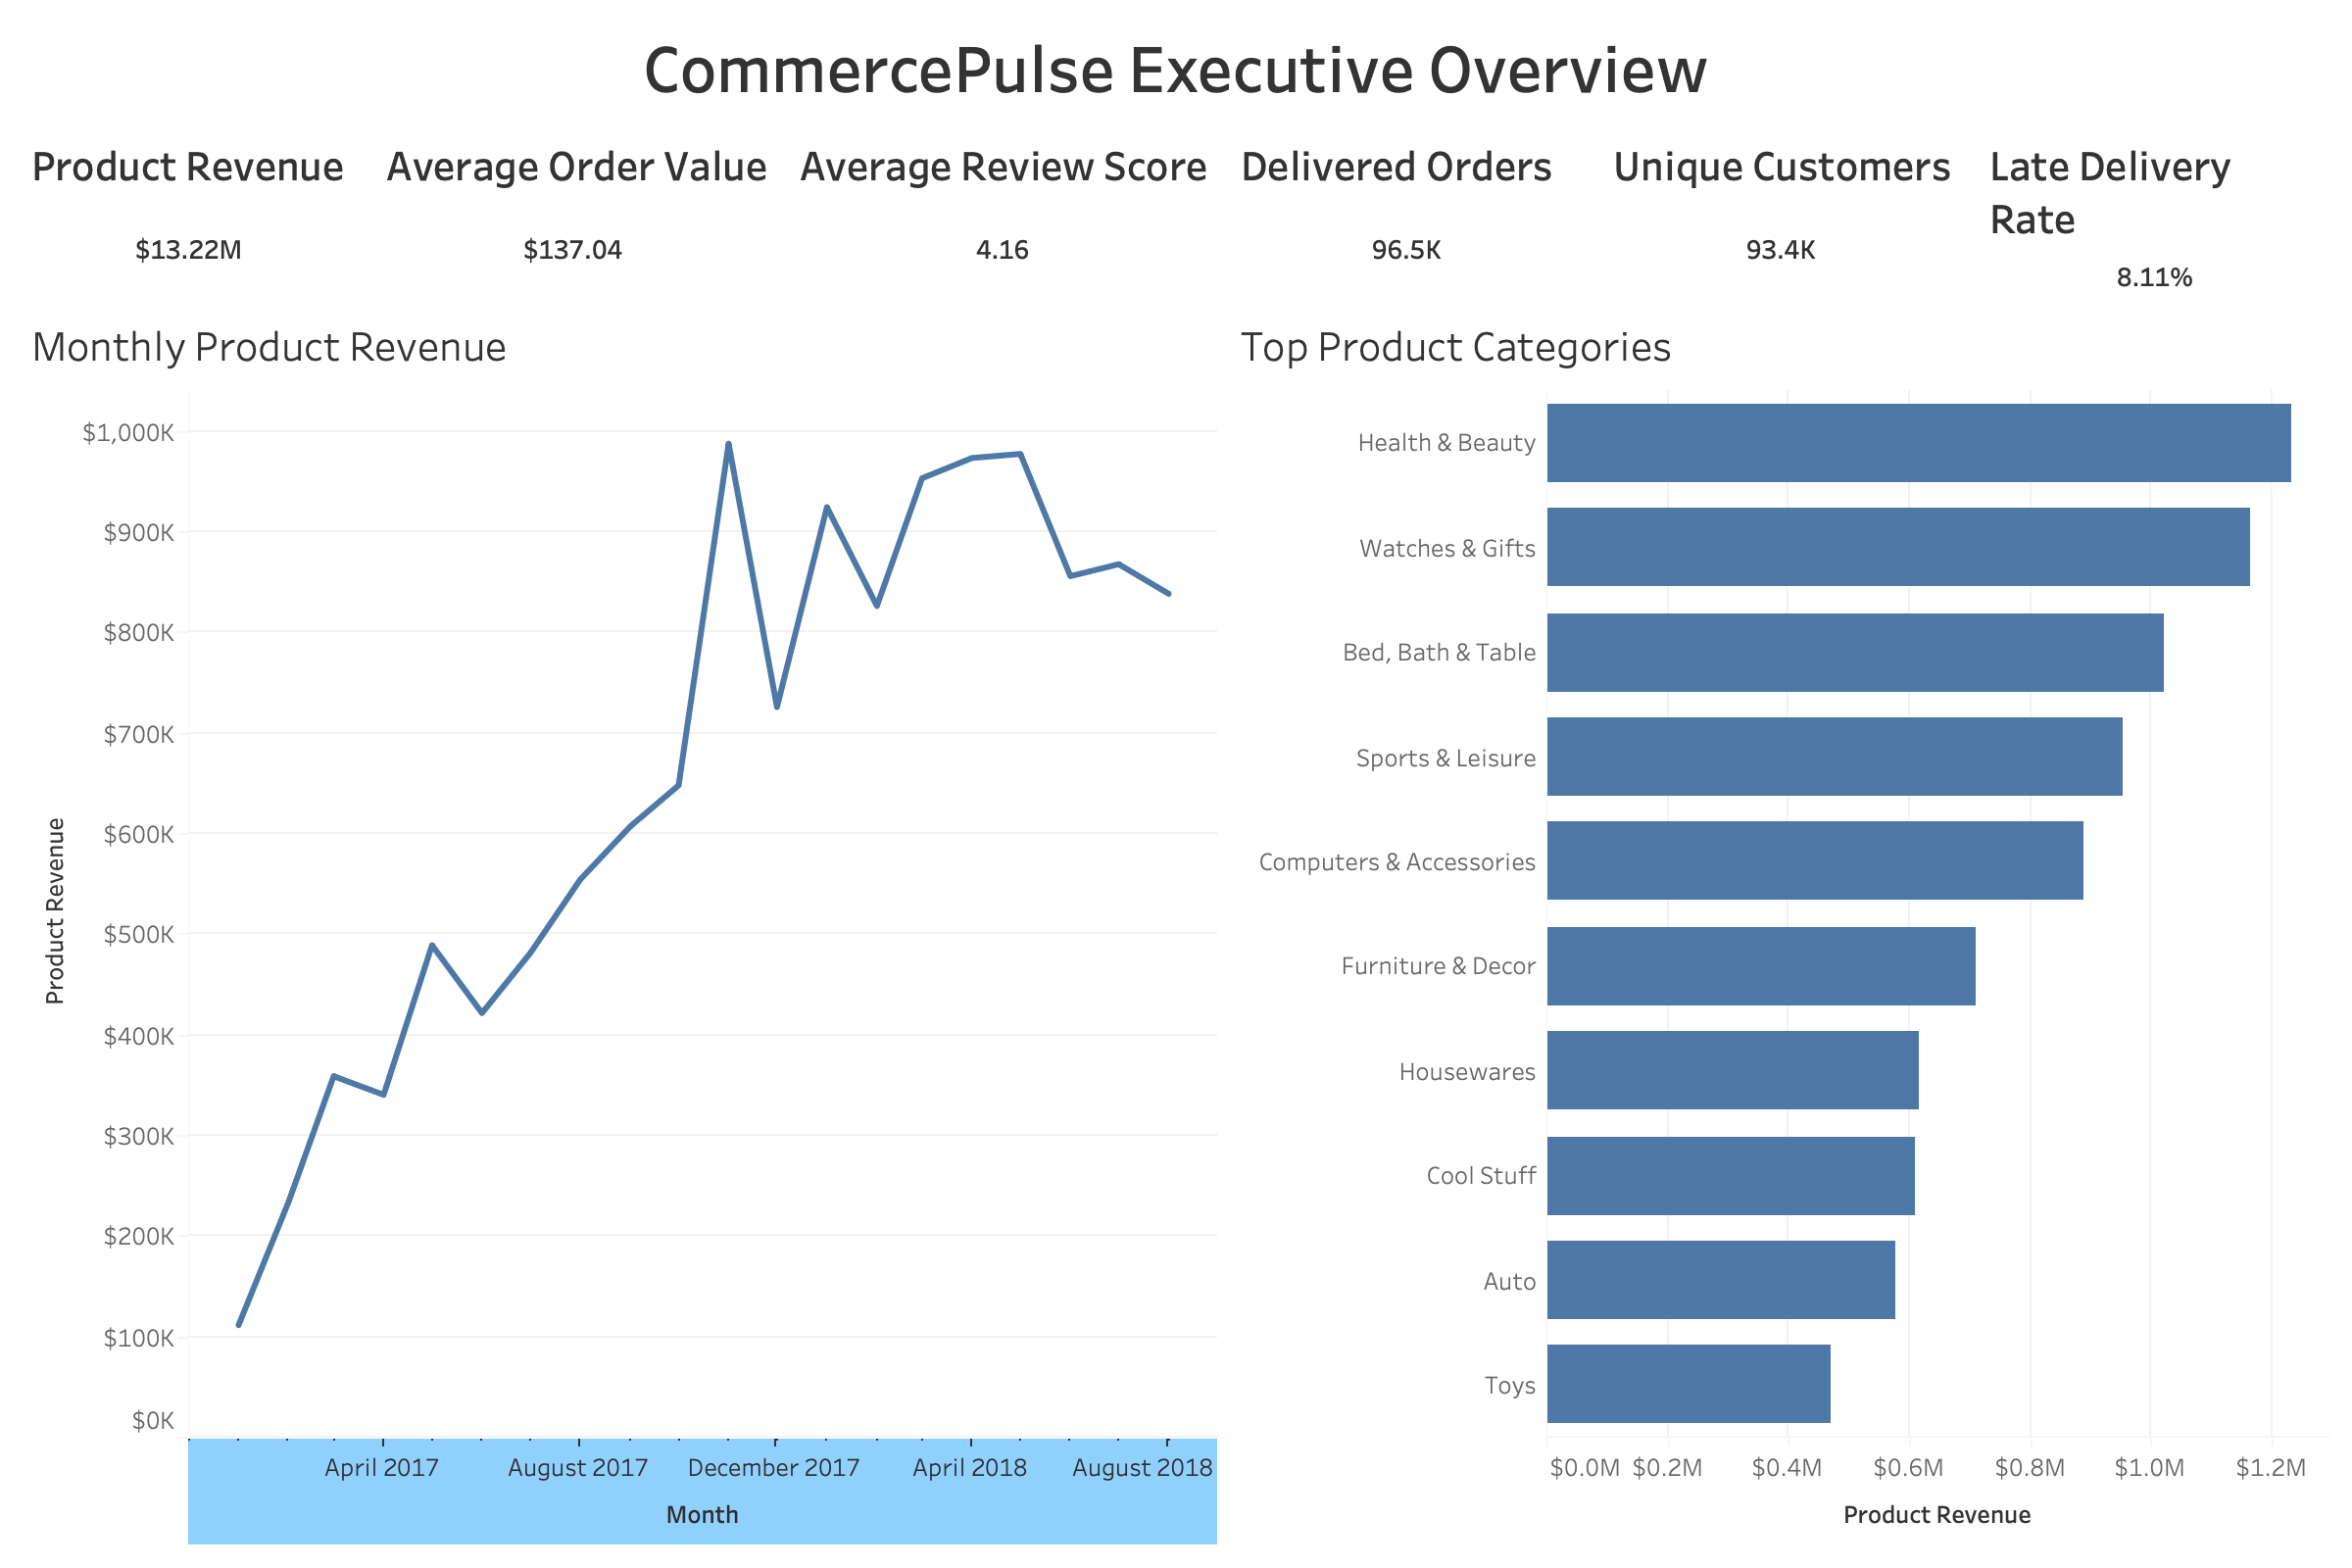

What the dashboard file says about the page in this screenshot:
{"tool":"tableau","page":{"name":"Executive Overview","canvas":[1200,800],"ordinal":2},"visuals":[{"type":"title","box":[8,8,1184,52]},{"type":"worksheet","title":"KPI - Product Revenue","mark":"Automatic","box":[8,60,177,92]},{"type":"worksheet","title":"KPI - Average Order Value","mark":"Automatic","box":[185,60,215,92]},{"type":"worksheet","title":"KPI - Average Review Score","mark":"Automatic","box":[400,60,225,92]},{"type":"worksheet","title":"KPI - Delivered Orders","mark":"Automatic","box":[625,60,186,92]},{"type":"worksheet","title":"KPI- Unique Customers","mark":"Automatic","box":[811,60,196,92]},{"type":"worksheet","title":"KPI - Late Delivery Rate","mark":"Automatic","box":[1007,60,185,92]},{"type":"worksheet","title":"Monthly Product Revenue","mark":"Line","rows":["item_subtotal"],"cols":["order_date"],"box":[8,152,617,640]},{"type":"worksheet","title":"Top Product Categories","mark":"Automatic","rows":["product_category_name_english"],"cols":["item_price"],"box":[625,152,567,640]}]}

Visuals, with their boxes in screenshot pixels (x1, y1, x2, y2), scaled from the page's 1200x800 canvas onto the 2352x1568 screenshot:
title: 16/16/2336/118
"KPI - Product Revenue" worksheet: 16/118/363/298
"KPI - Average Order Value" worksheet: 363/118/784/298
"KPI - Average Review Score" worksheet: 784/118/1225/298
"KPI - Delivered Orders" worksheet: 1225/118/1590/298
"KPI- Unique Customers" worksheet: 1590/118/1974/298
"KPI - Late Delivery Rate" worksheet: 1974/118/2336/298
"Monthly Product Revenue" worksheet (Line marks): 16/298/1225/1552
"Top Product Categories" worksheet: 1225/298/2336/1552
